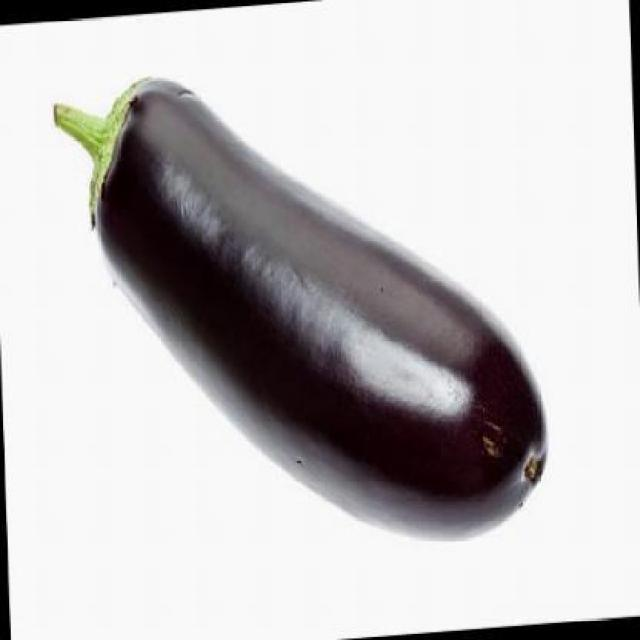eggplant: (55, 70, 552, 546)
